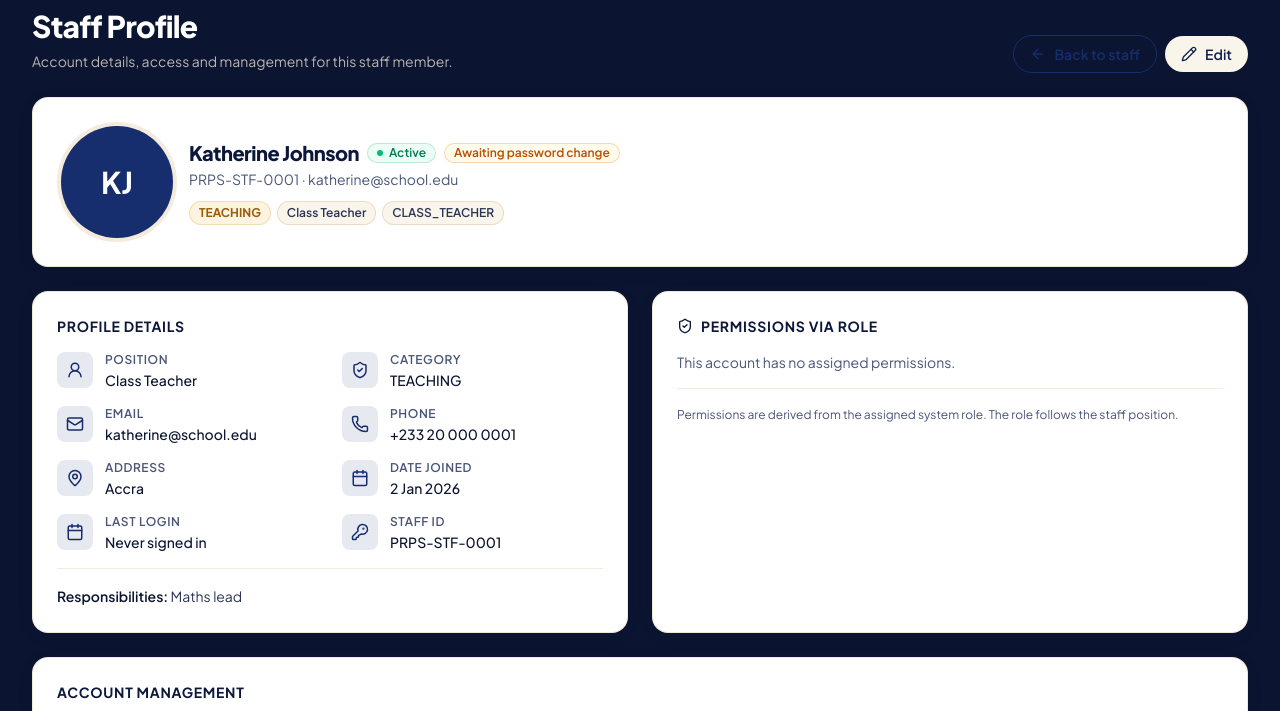
StaffProfilePage › edits the profile and updates the position
Expected: the text "Katherine Johnson" is shown, left=189, top=139, right=359, bottom=167
Step 1. Click the button "Edit" → (1207, 54), box left=1165, top=36, right=1248, bottom=72
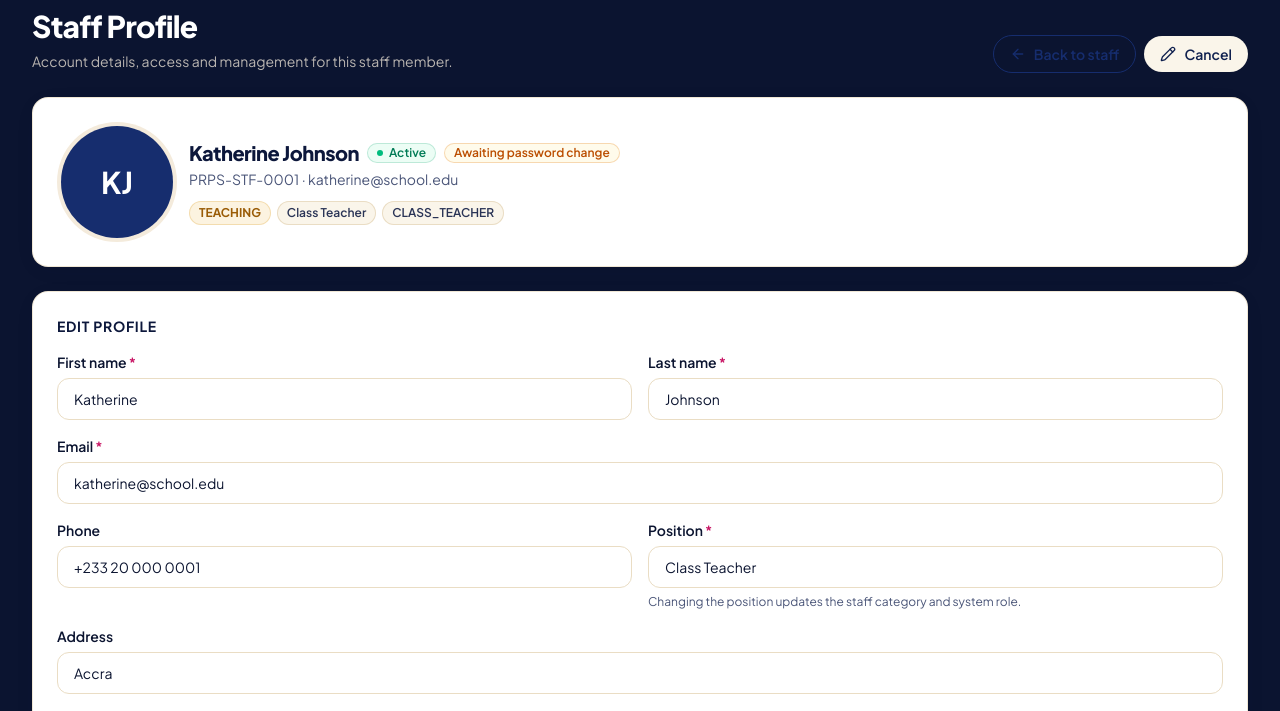
Step 2. Select "Subject Teacher" in the dropdown labelled "Position*" → (936, 567), box left=648, top=546, right=1223, bottom=588
(page scrolled)
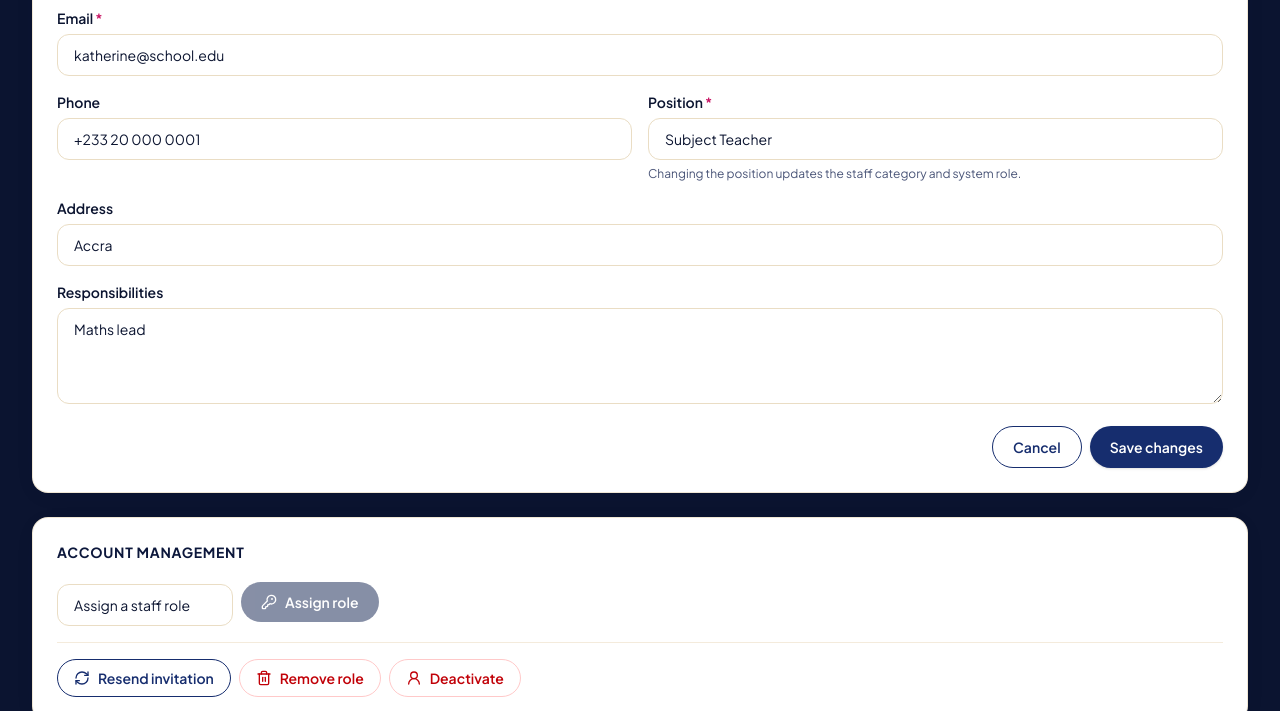
Step 3. Click the button "Save changes" → (1156, 447), box left=1090, top=426, right=1223, bottom=468
(page scrolled)
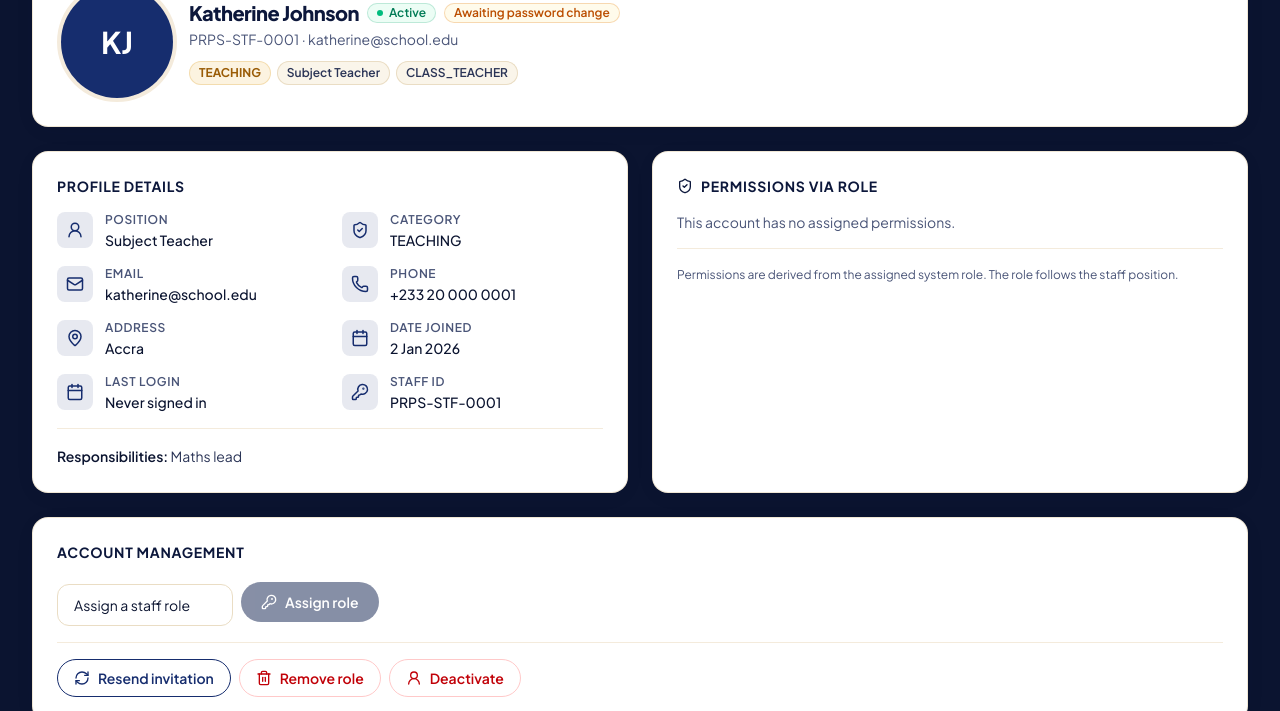
Result: the text "Subject Teacher" next to "CLASS_TEACHER" is shown at left=287, top=65, right=380, bottom=80
